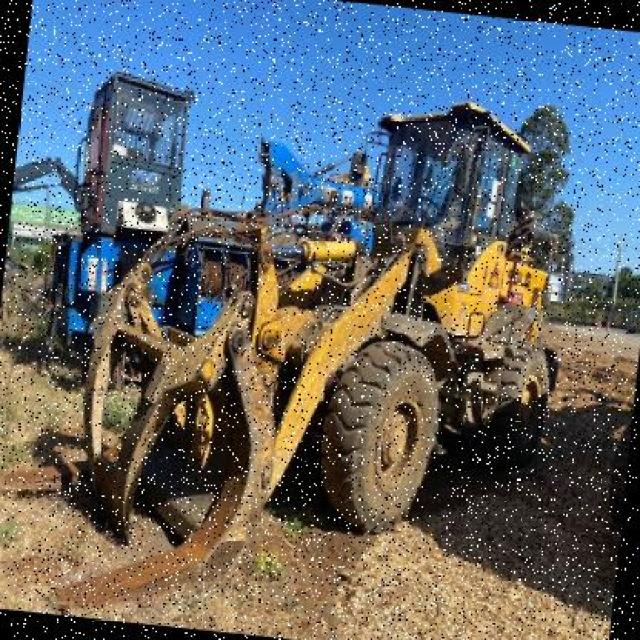buldozerpayloadergrader: (38, 39, 599, 616)
